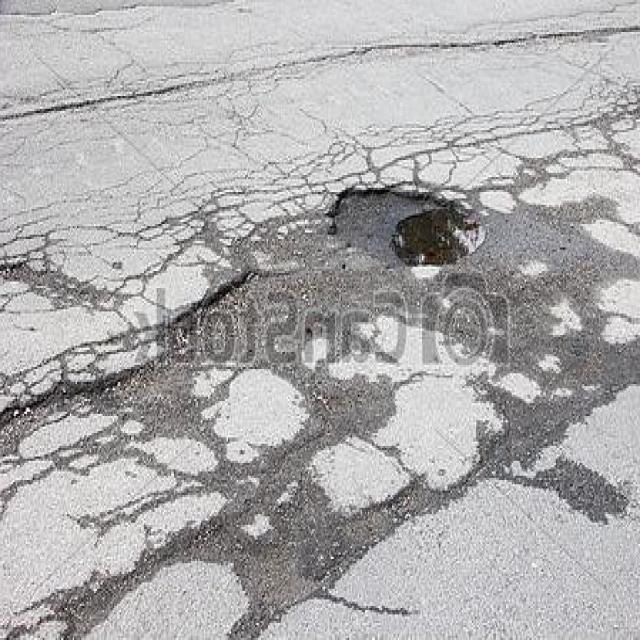pothole: (326, 175, 494, 269), (168, 264, 264, 328)
